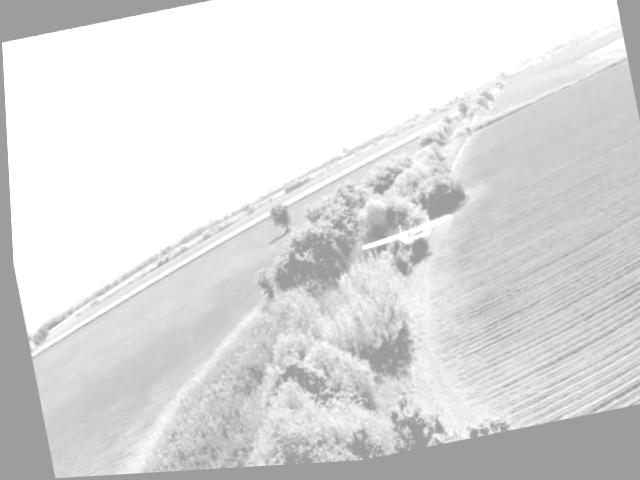hedef: (351, 209, 458, 268)
